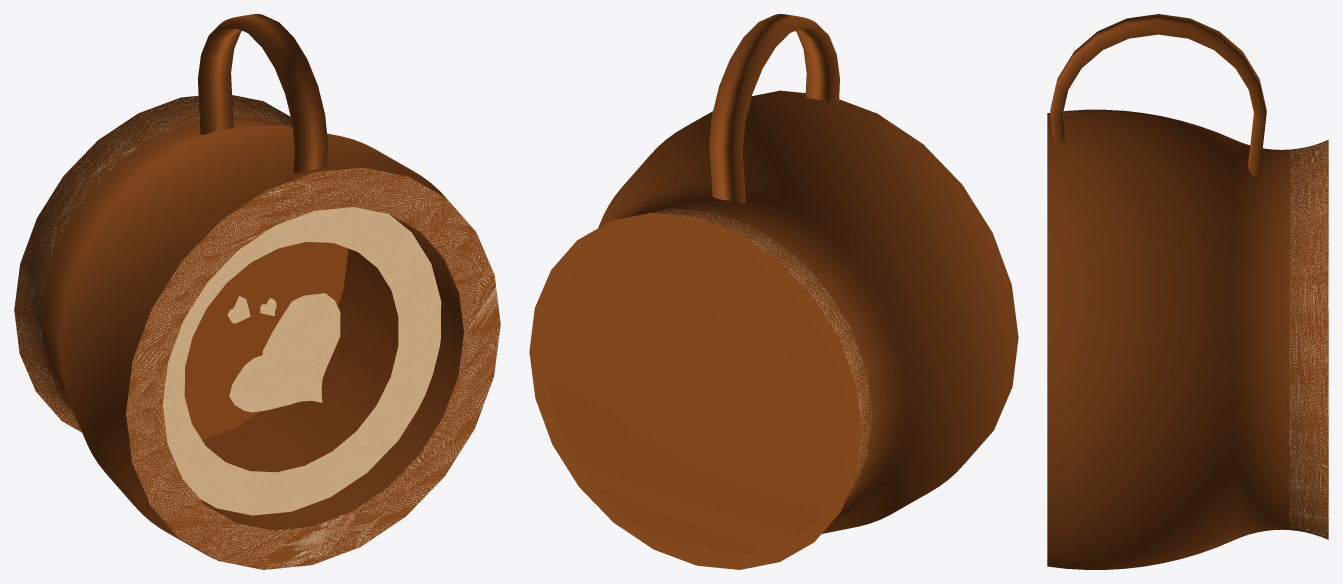
The model's file is model_align.obj.
3 renders of one model, left to right at view 1: azimuth 30°, elevation 25°; view 2: azimuth 150°, elevation 25°; view 3: azimuth 270°, elevation 25°, orthographic. The views are drawn at different scales.
Parts seen in each view (by area): view 1: mesh4_mesh4-geometry, mesh12_mesh12-geometry, mesh1_mesh1-geometry; view 2: mesh4_mesh4-geometry, mesh12_mesh12-geometry, mesh1_mesh1-geometry; view 3: mesh4_mesh4-geometry, mesh1_mesh1-geometry.
Boxes of the visible parts, left/top/right/bottom form: mesh4_mesh4-geometry: left=14, top=95, right=500, bottom=569; mesh12_mesh12-geometry: left=162, top=207, right=441, bottom=515; mesh1_mesh1-geometry: left=198, top=14, right=327, bottom=173; mesh4_mesh4-geometry: left=529, top=90, right=1018, bottom=569; mesh12_mesh12-geometry: left=548, top=236, right=824, bottom=554; mesh1_mesh1-geometry: left=709, top=14, right=839, bottom=203; mesh4_mesh4-geometry: left=1047, top=109, right=1328, bottom=569; mesh1_mesh1-geometry: left=1050, top=14, right=1266, bottom=175.
Bounding box in the file's own units: 0.0919 × 0.1169 × 0.0559.
